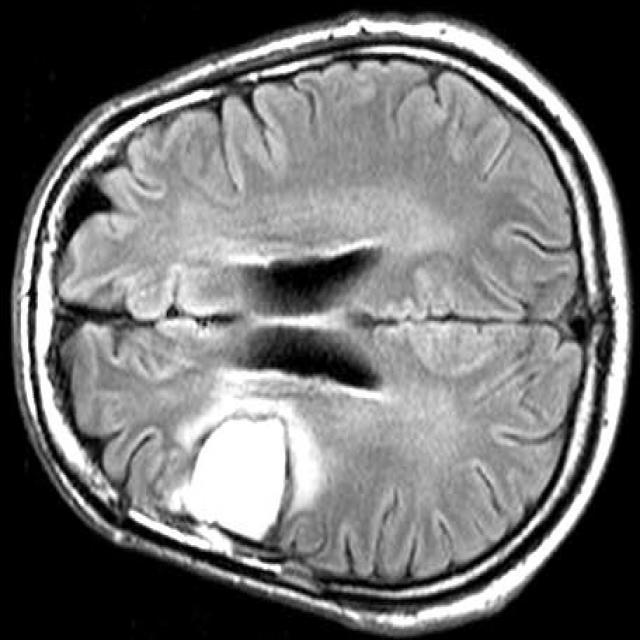tumor: (184, 414, 289, 541)
